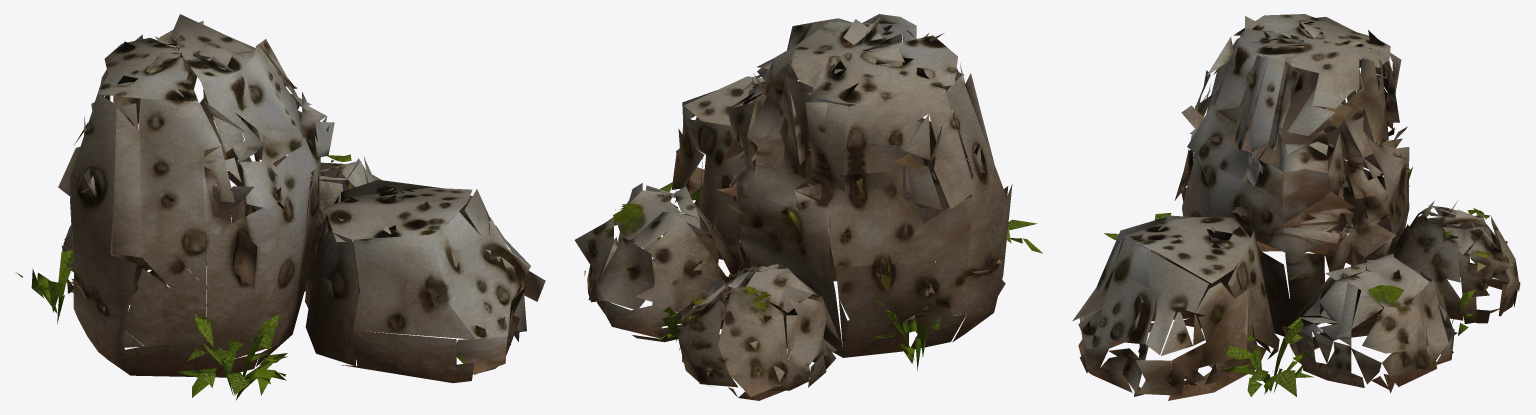
File: jun_boulder_cluster_mossy_a_LOD3.glb
The picture shows the model from 3 angles, left to right: view 1: azimuth 30°, elevation 25°; view 2: azimuth 150°, elevation 25°; view 3: azimuth 270°, elevation 25°; orthographic projection. The views are drawn at different scales.
Parts seen in each view (by area): view 1: tripo_node_2fa632b0-3145-4e0d-9542-0eff213807a1; view 2: tripo_node_2fa632b0-3145-4e0d-9542-0eff213807a1; view 3: tripo_node_2fa632b0-3145-4e0d-9542-0eff213807a1.
Part boxes in pixels (bbox=[...]): tripo_node_2fa632b0-3145-4e0d-9542-0eff213807a1: bbox=[15, 14, 545, 400]; tripo_node_2fa632b0-3145-4e0d-9542-0eff213807a1: bbox=[574, 14, 1042, 400]; tripo_node_2fa632b0-3145-4e0d-9542-0eff213807a1: bbox=[1072, 14, 1520, 400].
Bounding box in the file's own units: 0.9564 × 0.6529 × 1.01.
1 material, 1 textured.
